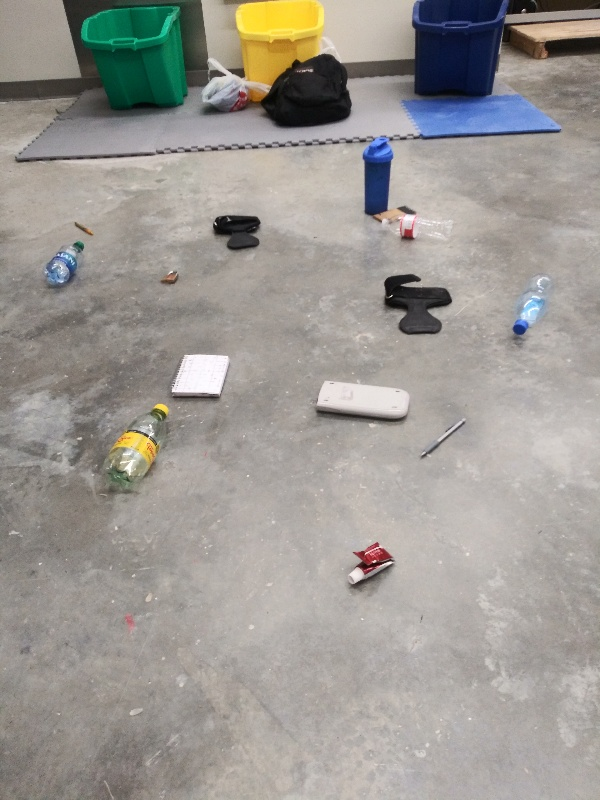bottle: (100, 401, 176, 497), (508, 273, 557, 340), (377, 213, 457, 246), (40, 239, 87, 292)
